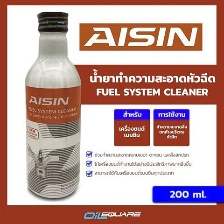cleaning_solution: (22, 9, 84, 201)
